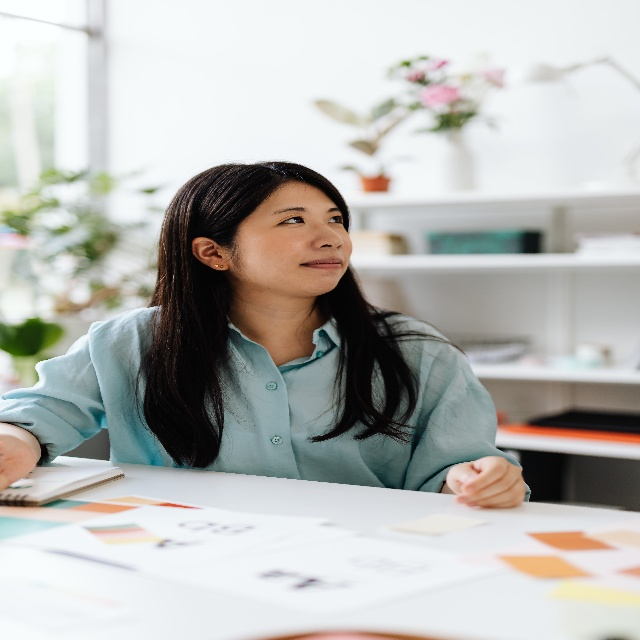Sin_guantes: (443, 452, 528, 511)
